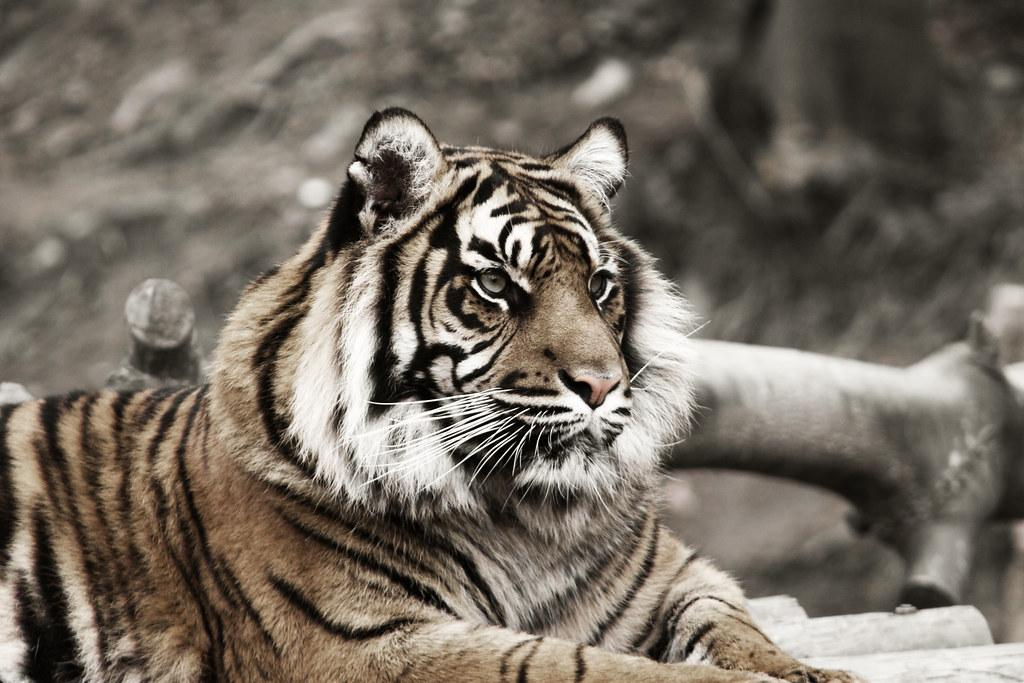tiger: (1, 105, 868, 682)
